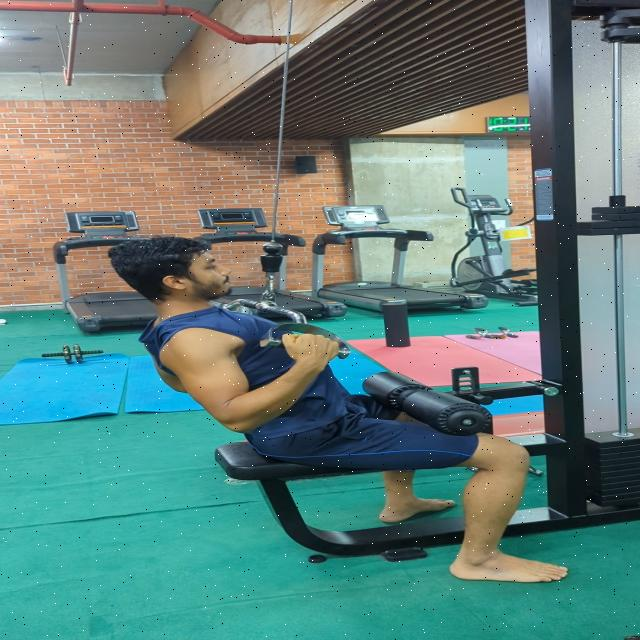Normal_LatPulldown: (92, 225, 578, 597)
